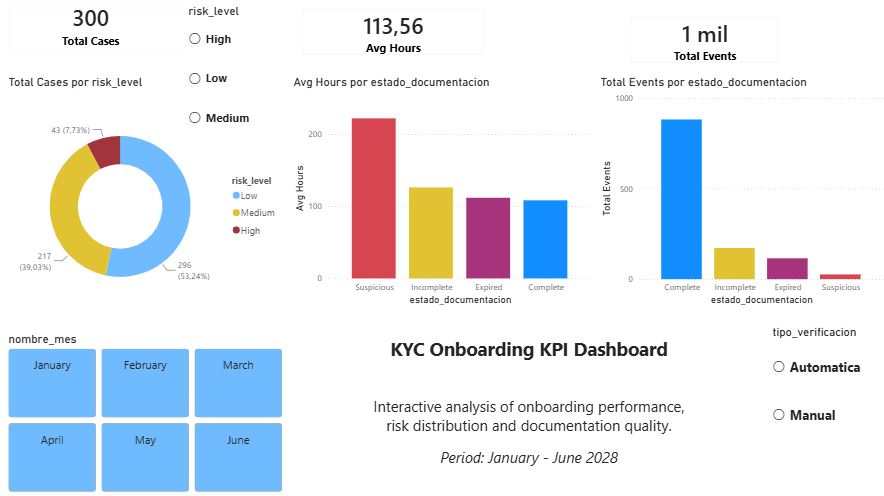

What the dashboard file says about the page in this screenshot:
{"tool":"powerbi","page":{"name":"Página 1","canvas":[1280,720],"ordinal":0},"visuals":[{"type":"cardVisual","fields":{"Data":["public fact_onboarding_eventos.Total Cases"]},"box":[10.1,11.8,366.2,102.5],"z":0},{"type":"cardVisual","fields":{"Data":["public fact_onboarding_eventos.Avg Hours"]},"box":[457.9,0,373,102.2],"z":1000},{"type":"cardVisual","fields":{"Data":["public fact_onboarding_eventos.Total Events"]},"box":[831.5,0,448.5,102.5],"z":2000},{"type":"donutChart","fields":{"Category":["public dim_riesgo.risk_level"],"Y":["public fact_onboarding_eventos.Total Cases"]},"box":[10.1,114.2,406.5,359.5],"z":3000},{"type":"clusteredColumnChart","fields":{"Category":["public fact_onboarding_eventos.estado_documentacion"],"Y":["public fact_onboarding_eventos.Avg Hours"]},"box":[419.9,114.2,440.1,336],"z":4000},{"type":"clusteredColumnChart","fields":{"Category":["public fact_onboarding_eventos.estado_documentacion"],"Y":["public fact_onboarding_eventos.Total Events"]},"box":[846.6,114.2,418.3,336],"z":5000},{"type":"listSlicer","fields":{"Values":["public dim_riesgo.risk_level"]},"box":[269.8,11.8,146.7,236.1],"z":6000},{"type":"advancedSlicerVisual","fields":{"Values":["public dim_fecha.nombre_mes"]},"box":[10.1,483.8,406.5,236.9],"z":7000},{"type":"listSlicer","fields":{"Values":["public fact_onboarding_eventos.tipo_verificacion"]},"box":[1110.3,473.7,154.5,236.9],"z":7001},{"type":"textbox","box":[458.6,502.3,567.8,218.4],"z":7004}]}

Visuals, with their boxes in screenshot pixels (x1, y1, x2, y2), scaled from the page's 1280x720 canvas onto the 884x496 screenshot:
cardVisual - public fact_onboarding_eventos.Total Cases: <bbox>7, 8, 260, 79</bbox>
cardVisual - public fact_onboarding_eventos.Avg Hours: <bbox>316, 0, 574, 70</bbox>
cardVisual - public fact_onboarding_eventos.Total Events: <bbox>574, 0, 883, 71</bbox>
donutChart - public dim_riesgo.risk_level x public fact_onboarding_eventos.Total Cases: <bbox>7, 79, 288, 326</bbox>
clusteredColumnChart - public fact_onboarding_eventos.estado_documentacion x public fact_onboarding_eventos.Avg Hours: <bbox>290, 79, 594, 310</bbox>
clusteredColumnChart - public fact_onboarding_eventos.estado_documentacion x public fact_onboarding_eventos.Total Events: <bbox>585, 79, 874, 310</bbox>
listSlicer - public dim_riesgo.risk_level: <bbox>186, 8, 288, 171</bbox>
advancedSlicerVisual - public dim_fecha.nombre_mes: <bbox>7, 333, 288, 495</bbox>
listSlicer - public fact_onboarding_eventos.tipo_verificacion: <bbox>767, 326, 874, 490</bbox>
textbox: <bbox>317, 346, 709, 495</bbox>
